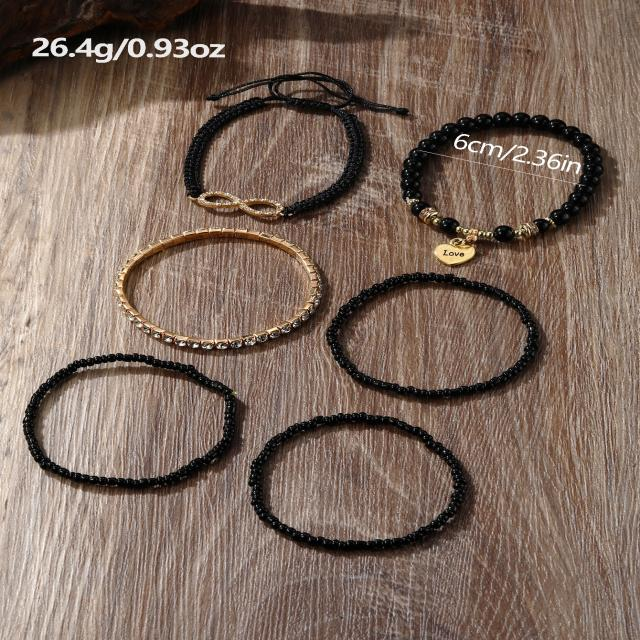bracelet: (239, 358, 510, 594), (374, 49, 640, 281), (137, 38, 405, 236), (0, 336, 258, 512), (105, 218, 328, 376), (339, 260, 571, 410)
